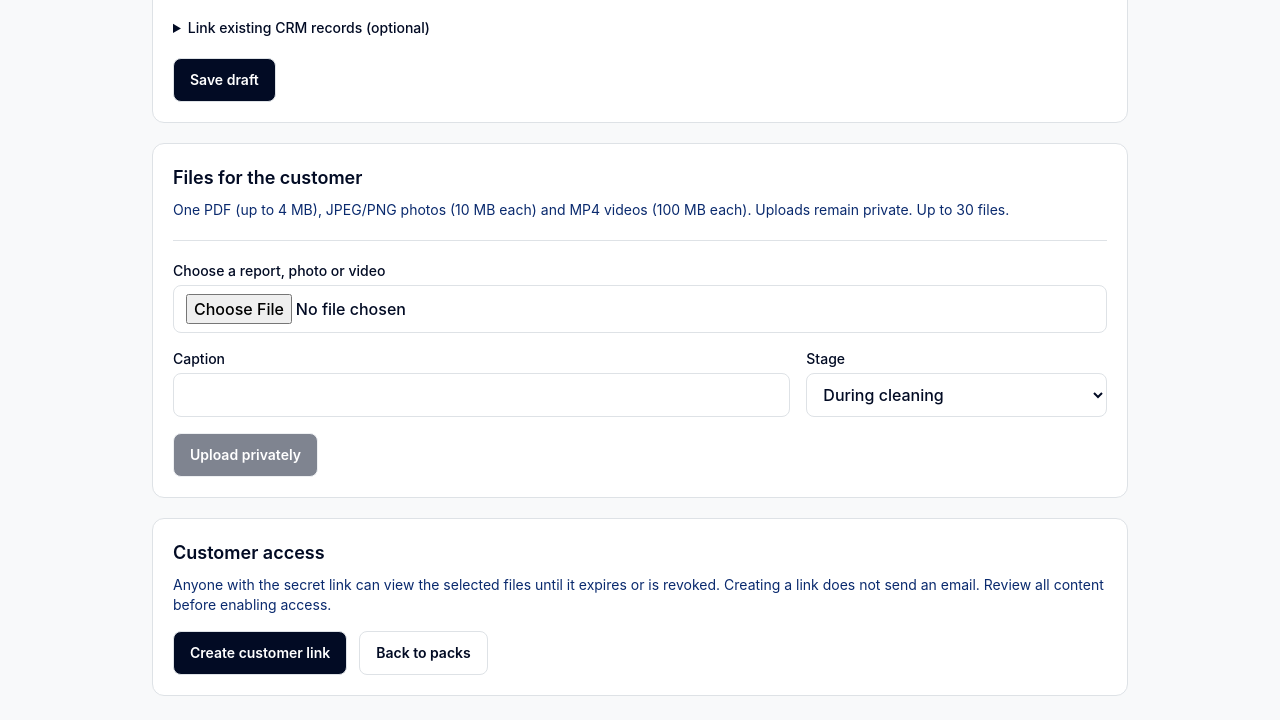
Test: private pack manager › requires explicit review confirmation before creating a link and has no send action
Later steps or results of the test are not shown.
(page scrolled)
Click the button "Create customer link".
click(260, 653)  # box [173,631,347,675]
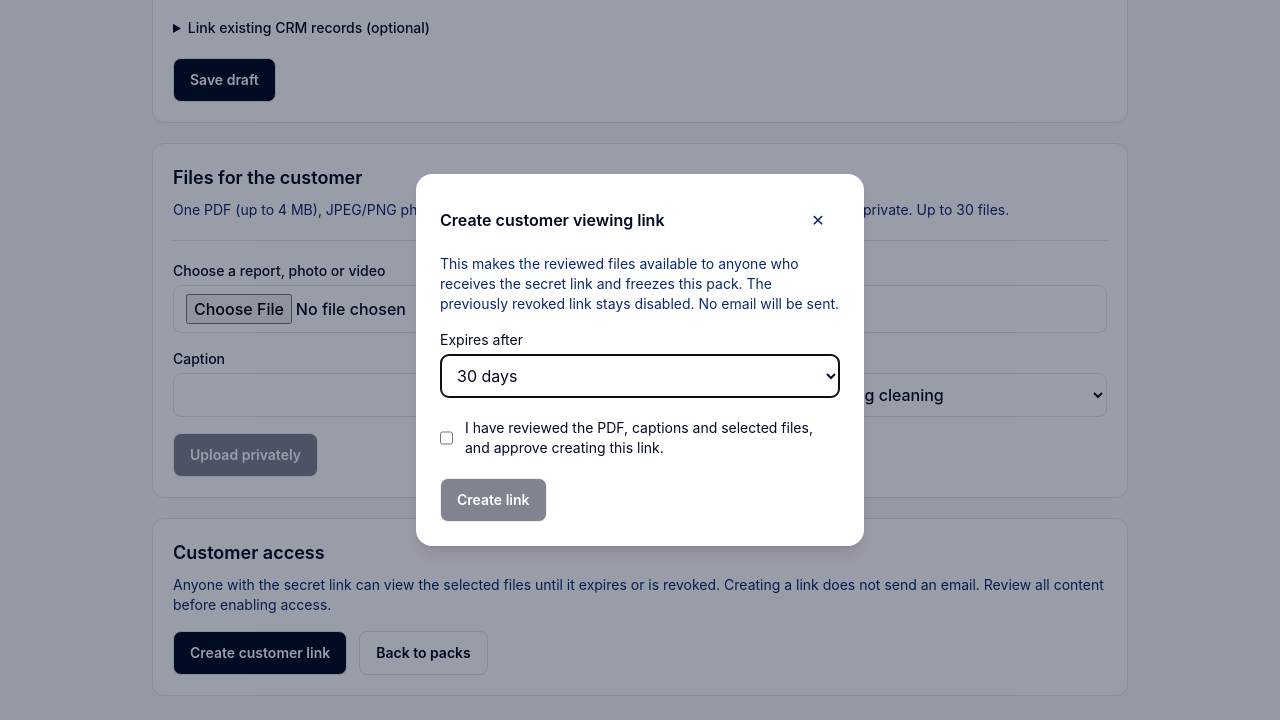
Result: the button "Create link" is disabled at [440,478,546,522]
Click the checkbox.
click(446, 438)  # box [440,418,453,458]
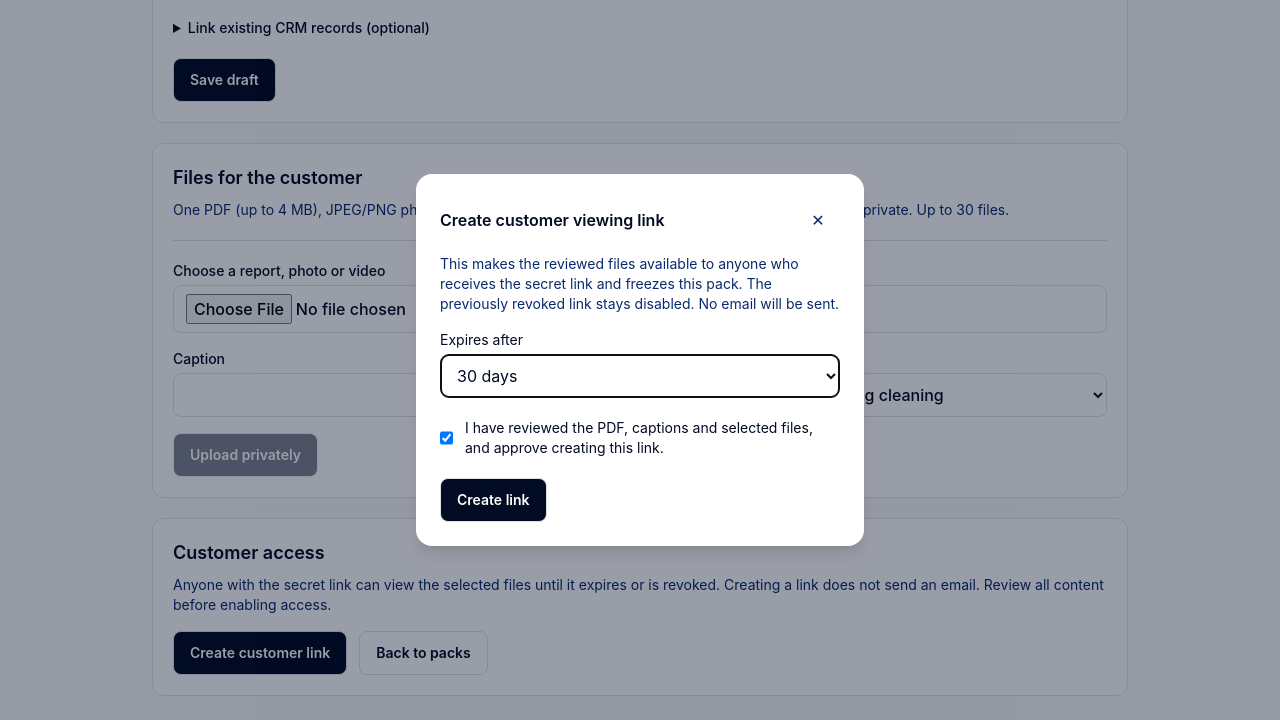
Result: the button "Create link" is enabled at [440,478,546,522]
